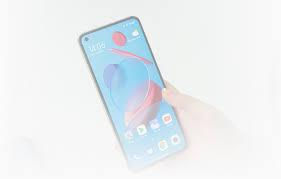Hand: (120, 84, 237, 171)
Smartphone: (83, 25, 180, 161)
